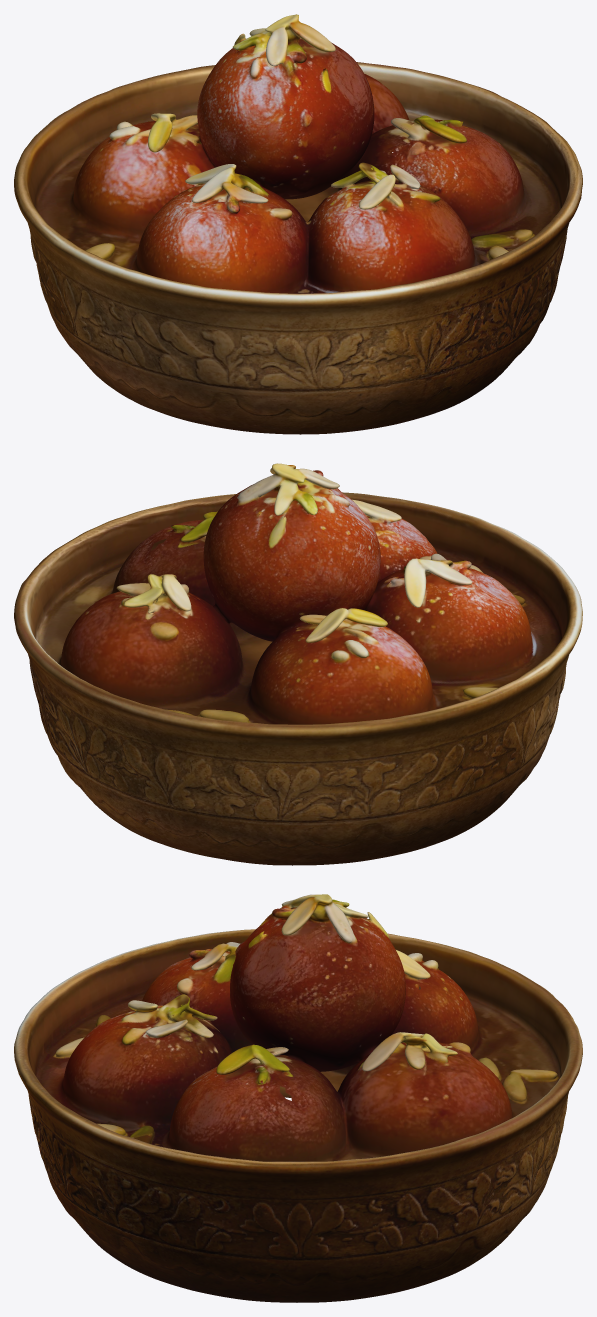
File: gulab-jamun.glb
3 renders of one model, top to bottom at view 1: azimuth 30°, elevation 25°; view 2: azimuth 150°, elevation 25°; view 3: azimuth 270°, elevation 25°, orthographic.
Visible parts, largest first — view 1: tripo_node_924a7fcb; view 2: tripo_node_924a7fcb; view 3: tripo_node_924a7fcb.
Part boxes in pixels (bbox=[...]): tripo_node_924a7fcb: bbox=[14, 14, 582, 434]; tripo_node_924a7fcb: bbox=[14, 463, 582, 865]; tripo_node_924a7fcb: bbox=[14, 894, 582, 1302].
Size of the model in its own units: 0.24 by 0.1503 by 0.2398.
Materials: 1 (1 with a texture image).
